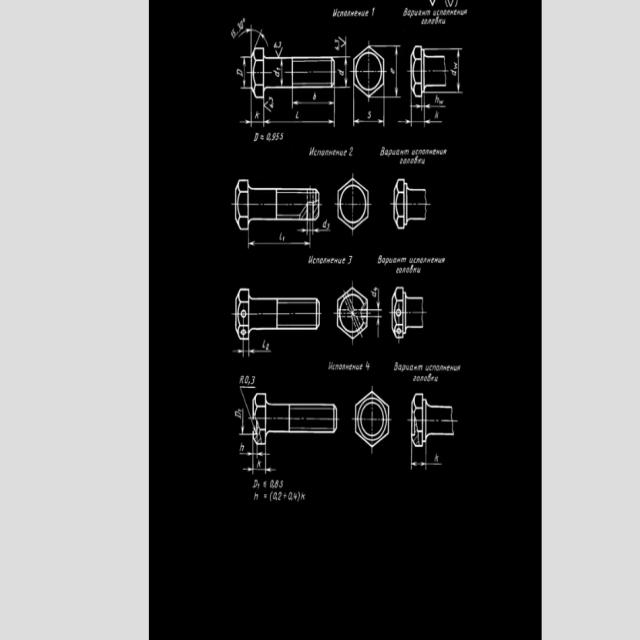marking_line: (262, 112, 335, 129), (247, 232, 311, 248), (352, 99, 385, 127), (291, 89, 337, 109), (385, 47, 401, 99), (397, 110, 444, 127), (447, 48, 462, 94), (410, 448, 442, 469), (368, 288, 381, 338), (240, 99, 264, 126), (231, 341, 271, 357), (243, 457, 276, 474), (336, 56, 352, 90), (296, 222, 332, 233), (410, 98, 446, 109), (240, 445, 273, 456), (240, 56, 250, 89), (241, 408, 251, 435), (280, 60, 284, 87)
numeric: (337, 68, 344, 77), (274, 70, 281, 78), (347, 256, 353, 265), (450, 68, 456, 77), (239, 375, 245, 384), (256, 459, 262, 468), (254, 132, 259, 142), (366, 361, 371, 371), (434, 453, 439, 463), (269, 479, 274, 489), (253, 479, 258, 489), (236, 69, 243, 76), (300, 492, 306, 500), (254, 111, 259, 120), (232, 29, 237, 38), (435, 94, 440, 103), (323, 219, 328, 228), (250, 376, 255, 385), (254, 492, 259, 501), (390, 67, 396, 74), (271, 133, 276, 141), (295, 111, 300, 119), (349, 146, 353, 156), (371, 7, 375, 17), (245, 376, 250, 384), (277, 492, 282, 500), (268, 96, 274, 102), (454, 61, 458, 70), (275, 479, 279, 488), (288, 491, 292, 500), (293, 492, 297, 501), (266, 134, 271, 141), (279, 481, 284, 488), (237, 23, 241, 31), (275, 132, 279, 140), (280, 133, 284, 141), (273, 492, 277, 500), (240, 21, 243, 31), (313, 91, 316, 101), (334, 39, 340, 44), (439, 99, 444, 105), (230, 31, 234, 38), (274, 42, 278, 49), (326, 223, 330, 230), (334, 46, 340, 50), (435, 112, 439, 118), (282, 234, 285, 242), (262, 340, 265, 348), (266, 343, 269, 351), (374, 286, 378, 291), (279, 42, 282, 48), (257, 484, 260, 490), (270, 104, 274, 108)
special_symbol: (239, 29, 270, 48), (339, 37, 345, 47), (429, 0, 436, 7), (447, 0, 454, 7), (276, 49, 282, 57), (260, 134, 264, 141), (263, 481, 267, 488), (283, 493, 287, 499), (264, 493, 267, 499)
